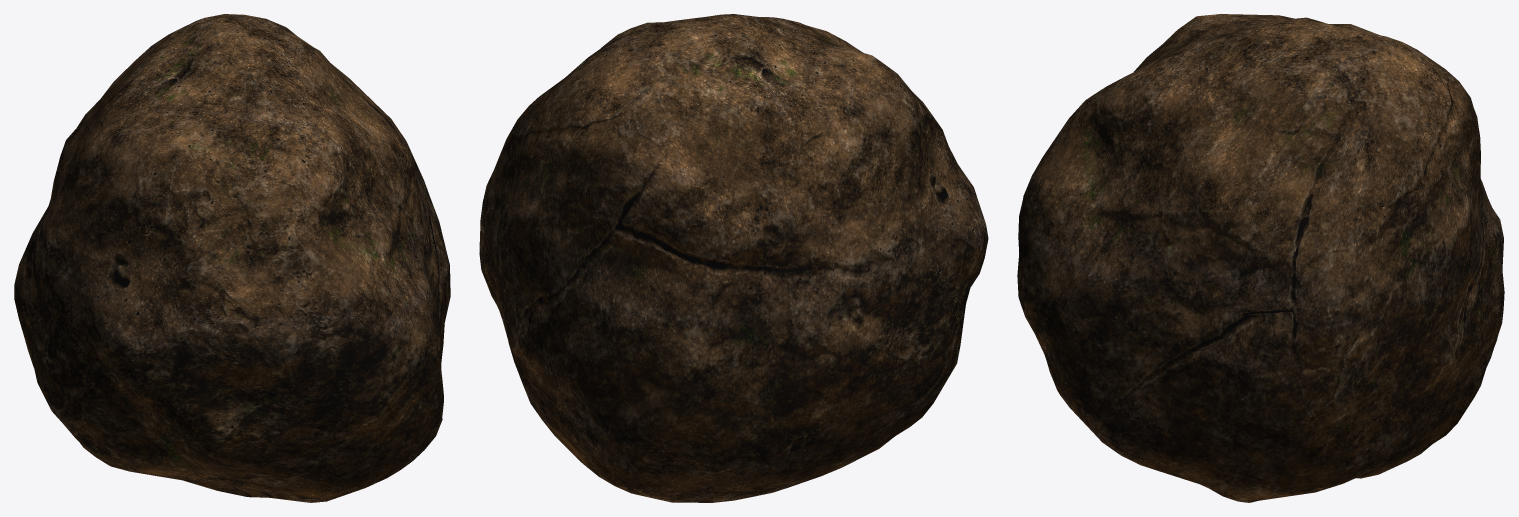
Rendered from SM_TI_Rock_3.fbx.
3 renders of one model, left to right at view 1: azimuth 30°, elevation 25°; view 2: azimuth 150°, elevation 25°; view 3: azimuth 270°, elevation 25°, orthographic. The views are drawn at different scales.
Parts seen in each view (by area): view 1: SM_TI_Rock_3; view 2: SM_TI_Rock_3; view 3: SM_TI_Rock_3.
Boxes of the visible parts, bbox=[...] form: SM_TI_Rock_3: bbox=[14, 14, 450, 502]; SM_TI_Rock_3: bbox=[479, 14, 988, 502]; SM_TI_Rock_3: bbox=[1017, 14, 1504, 502].
Size of the model in its own units: 16.25 by 16.76 by 16.88.
